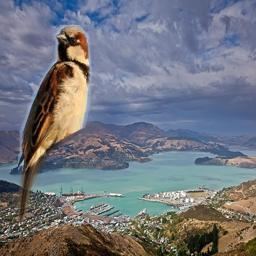Swallow: (18, 25, 92, 222)
